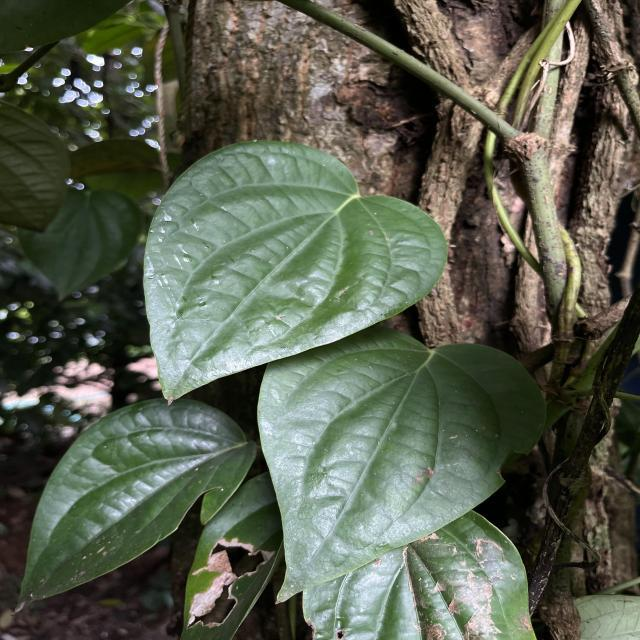Piper nigrum: (253, 324, 552, 608), (138, 136, 450, 406)
